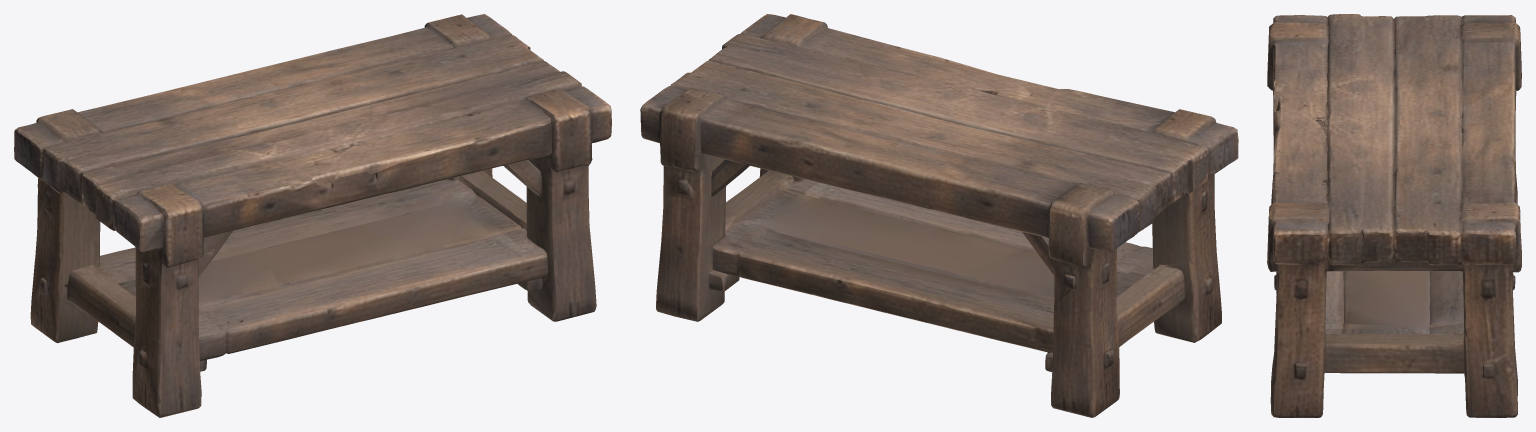
The picture shows the model from 3 angles, left to right: view 1: azimuth 30°, elevation 25°; view 2: azimuth 150°, elevation 25°; view 3: azimuth 270°, elevation 25°; orthographic projection. The views are drawn at different scales.
Parts seen in each view (by area): view 1: geometry_0; view 2: geometry_0; view 3: geometry_0.
Part boxes in pixels (x1,y1,x2,y2): geometry_0: (14,14,611,417); geometry_0: (640,14,1238,417); geometry_0: (1267,14,1521,417).
Size of the model in its own units: 1.2 by 0.5035 by 0.589.
1 material, 1 textured.
